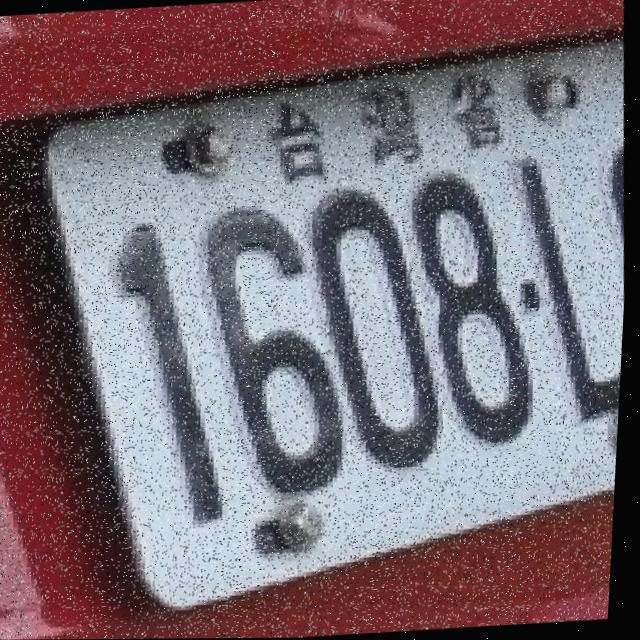LicensePlate: (0, 8, 640, 633)
